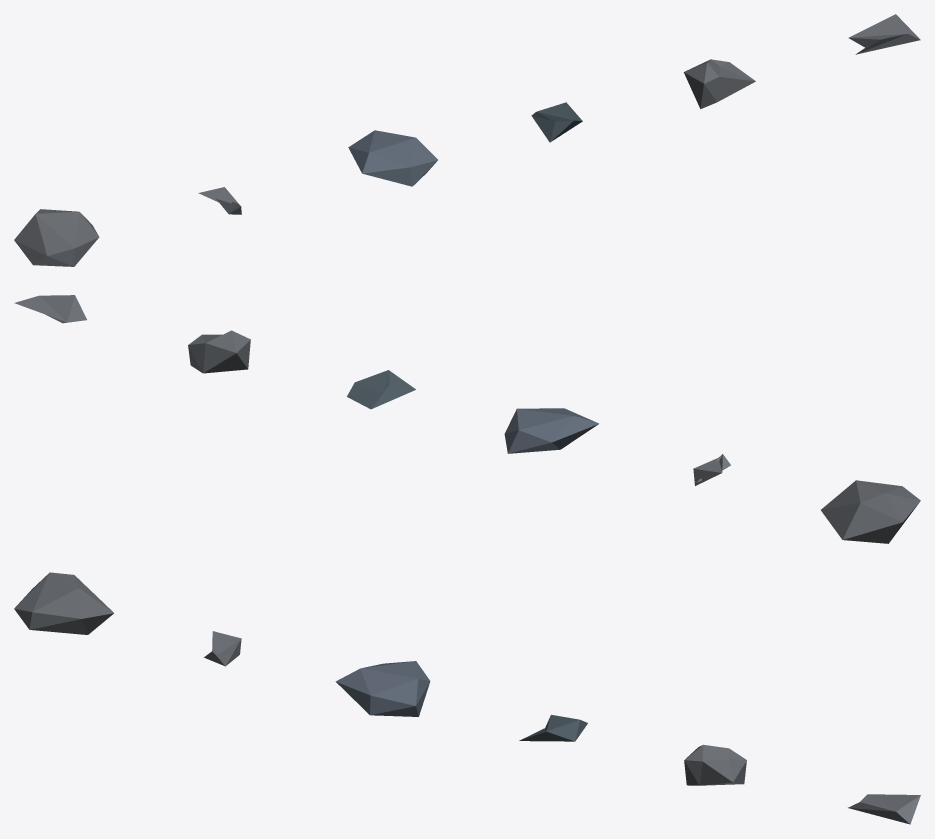
File: debris.glb
3 renders of one model, top to bottom at view 1: azimuth 30°, elevation 25°; view 2: azimuth 150°, elevation 25°; view 3: azimuth 330°, elevation 25°, orthographic.
Visible parts, largest first — view 1: world; view 2: world; view 3: world.
Boxes of the visible parts, x1,y1,x2,y2 form: world: (14, 14, 920, 266); world: (14, 295, 920, 543); world: (14, 572, 920, 824).
Size of the model in its own units: 1.09 by 0.059 by 0.1096.
